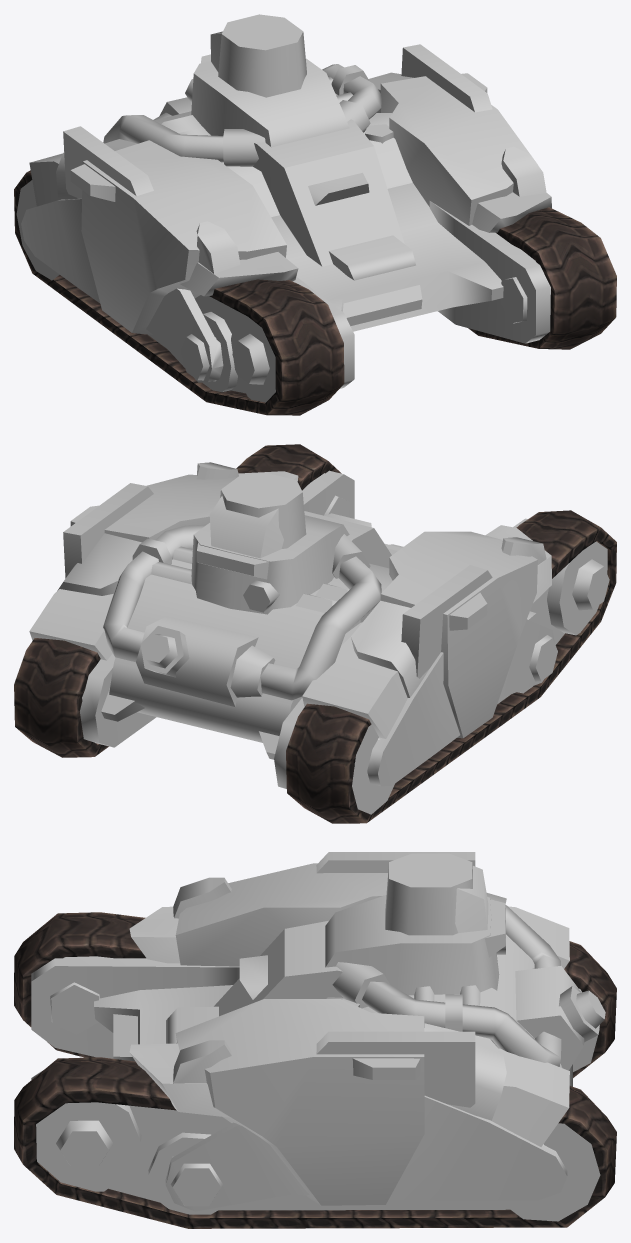
File: Chassis_Carrier_Lvl1.fbx
The picture shows the model from 3 angles, top to bottom: view 1: azimuth 30°, elevation 25°; view 2: azimuth 150°, elevation 25°; view 3: azimuth 270°, elevation 25°; orthographic projection. The views are drawn at different scales.
Visible parts, largest first — view 1: Body_Geom, Tracks_R_Geom, Tracks_L_Geom; view 2: Body_Geom, Tracks_R_Geom, Tracks_L_Geom; view 3: Body_Geom, Tracks_L_Geom, Tracks_R_Geom.
Boxes of the visible parts, bbox=[...] form: Body_Geom: bbox=[16, 14, 551, 402]; Tracks_R_Geom: bbox=[14, 170, 344, 415]; Tracks_L_Geom: bbox=[468, 207, 616, 349]; Body_Geom: bbox=[29, 462, 609, 814]; Tracks_R_Geom: bbox=[286, 510, 616, 823]; Tracks_L_Geom: bbox=[14, 444, 341, 757]; Body_Geom: bbox=[31, 852, 605, 1221]; Tracks_L_Geom: bbox=[14, 1057, 616, 1228]; Tracks_R_Geom: bbox=[14, 912, 616, 1077].
Bounding box in the file's own units: 386 × 236 × 465.
